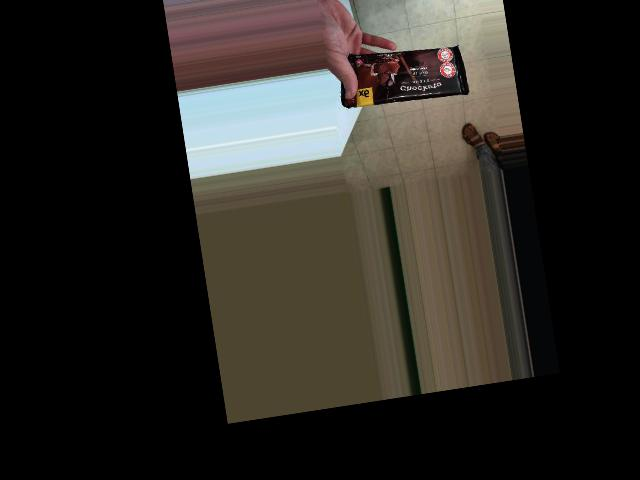chocolate: (330, 26, 470, 119)
